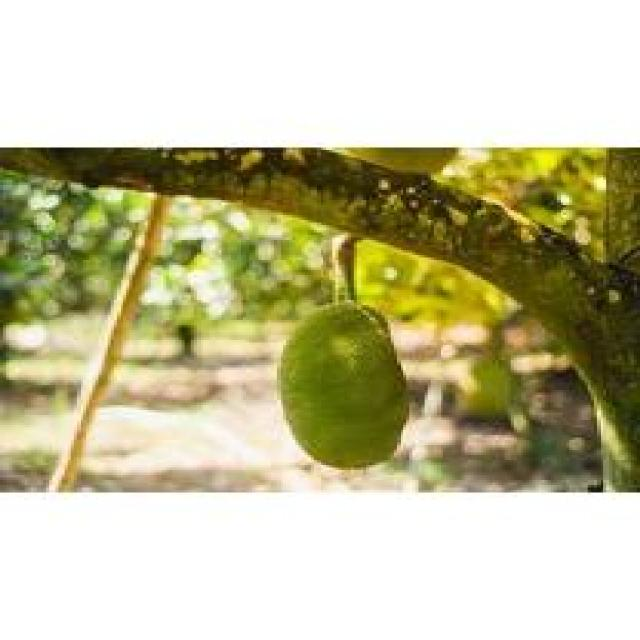Fruit: (262, 288, 422, 478)
